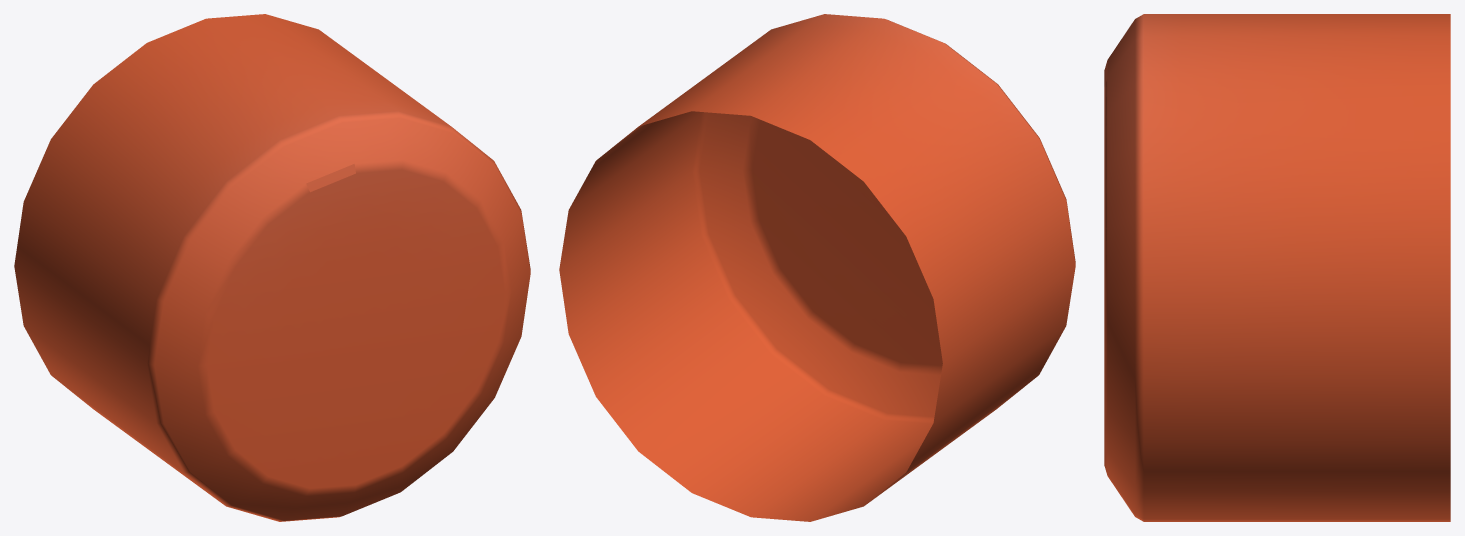
File: BasketBallGame_Button.fbx
The picture shows the model from 3 angles, left to right: view 1: azimuth 30°, elevation 25°; view 2: azimuth 150°, elevation 25°; view 3: azimuth 270°, elevation 25°; orthographic projection. The views are drawn at different scales.
Visible parts, largest first — view 1: BasketBallGame_Button; view 2: BasketBallGame_Button; view 3: BasketBallGame_Button.
Part boxes in pixels (left/top/right/bottom): BasketBallGame_Button: left=14, top=14, right=530, bottom=521; BasketBallGame_Button: left=559, top=14, right=1075, bottom=521; BasketBallGame_Button: left=1104, top=14, right=1450, bottom=521.
Size of the model in its own units: 4.72 by 4.72 by 3.2.
